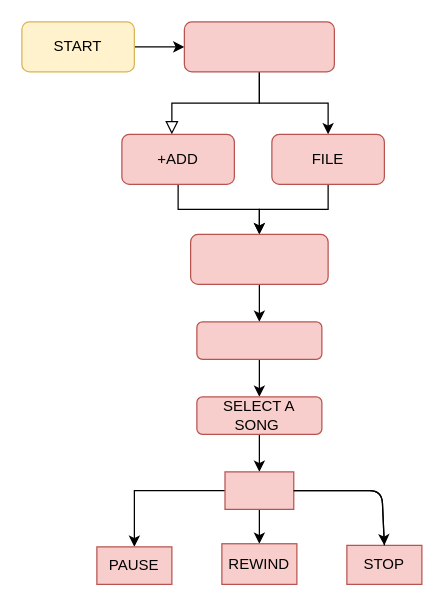
The diagram is 444 pixels wide and 616 high, and some of its shapes have lost their labels. The centre of each missing label's shape, as x and y in pixels:
"BROWSE AND SELECT SONG" belongs at pixel 258 258.
"PLAY" belongs at pixel 259 490.
"PLAY LIST" belongs at pixel 259 340.
"RUN THE SOURCE CODE" belongs at pixel 258 46.
